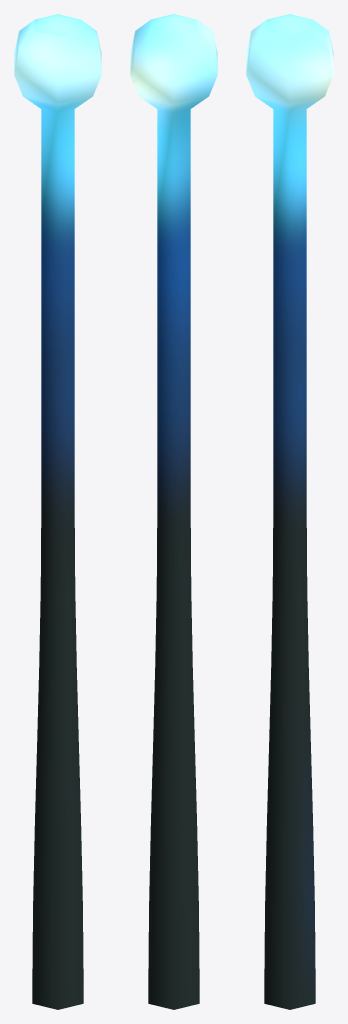
File: SM_GlowingPlant_c.fbx
3 views of the same model, side by side, from view 1: azimuth 30°, elevation 25°; view 2: azimuth 210°, elevation 25°; view 3: azimuth 330°, elevation 25° (orthographic).
Visible parts, largest first — view 1: SM_GlowingPlant_c; view 2: SM_GlowingPlant_c; view 3: SM_GlowingPlant_c.
Boxes of the visible parts, x1,y1,x2,y2 form: SM_GlowingPlant_c: [14, 14, 101, 1009]; SM_GlowingPlant_c: [130, 14, 217, 1009]; SM_GlowingPlant_c: [246, 14, 333, 1009].
Size of the model in its own units: 4.62 by 4 by 49.39.
Materials: 1 (1 with a texture image).
